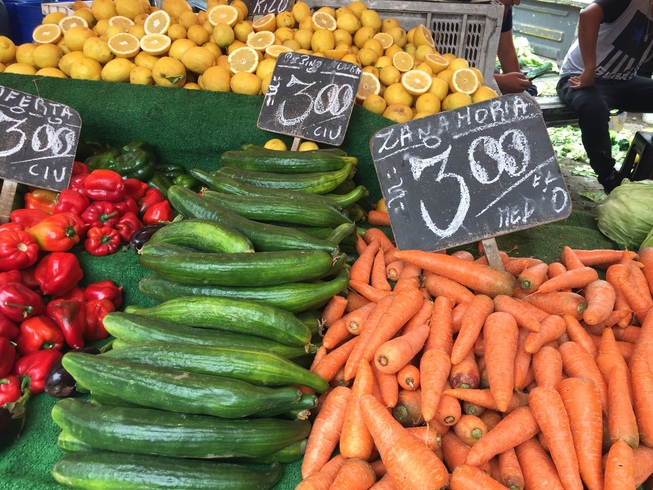precio: (364, 87, 586, 278), (250, 46, 379, 152), (1, 84, 97, 195)
